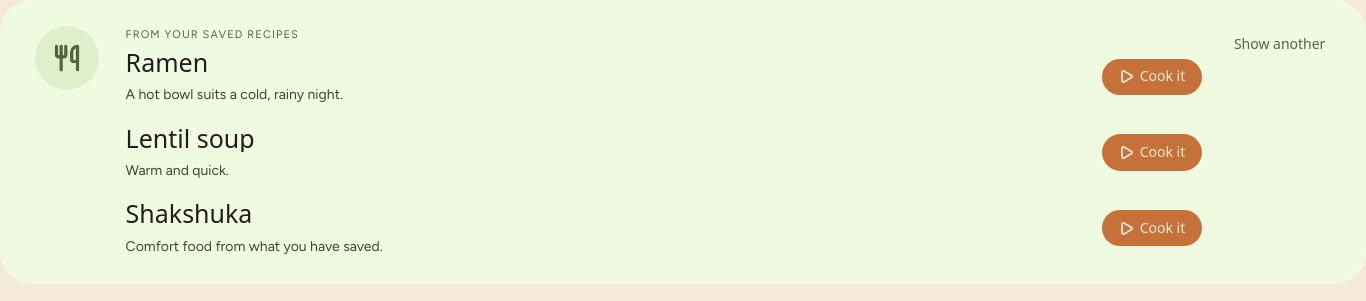
Scenario: HomeRecommendation › WX-5 UI-18 re-prompts with every shown pick excluded when Show another is used
Check: the text "Ramen" is shown, box [126,48,208,76]
What coordinates should you click on to do the following:
click the button "Show another"
I would click on:
 (1280, 45)
Its box is [1228,26,1331,63].
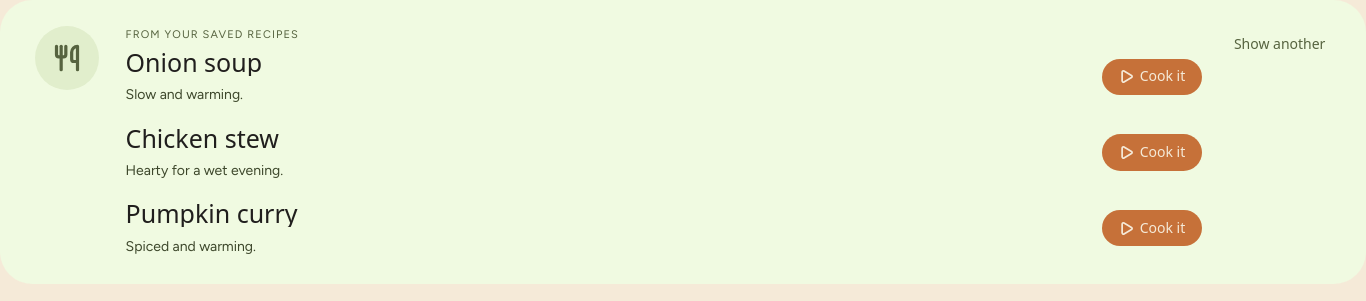
Check: the text "Onion soup" is shown, box [126,48,262,76]
